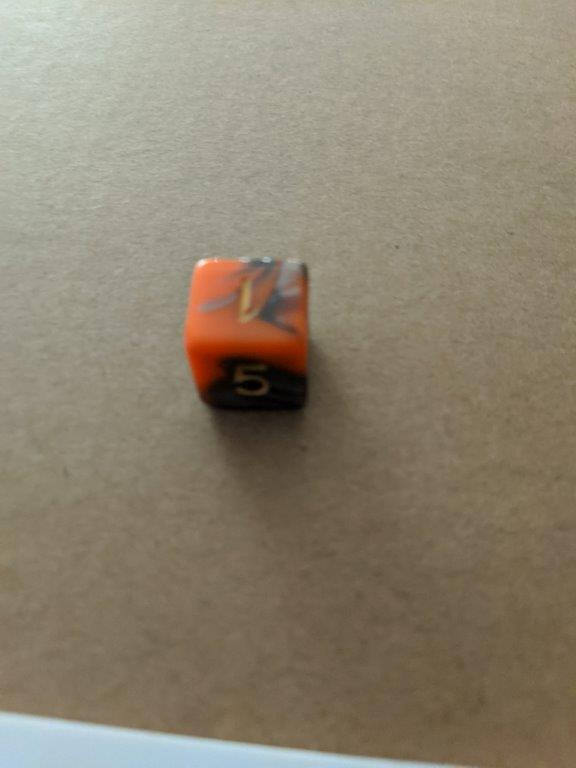d6-1: (179, 259, 312, 418)
